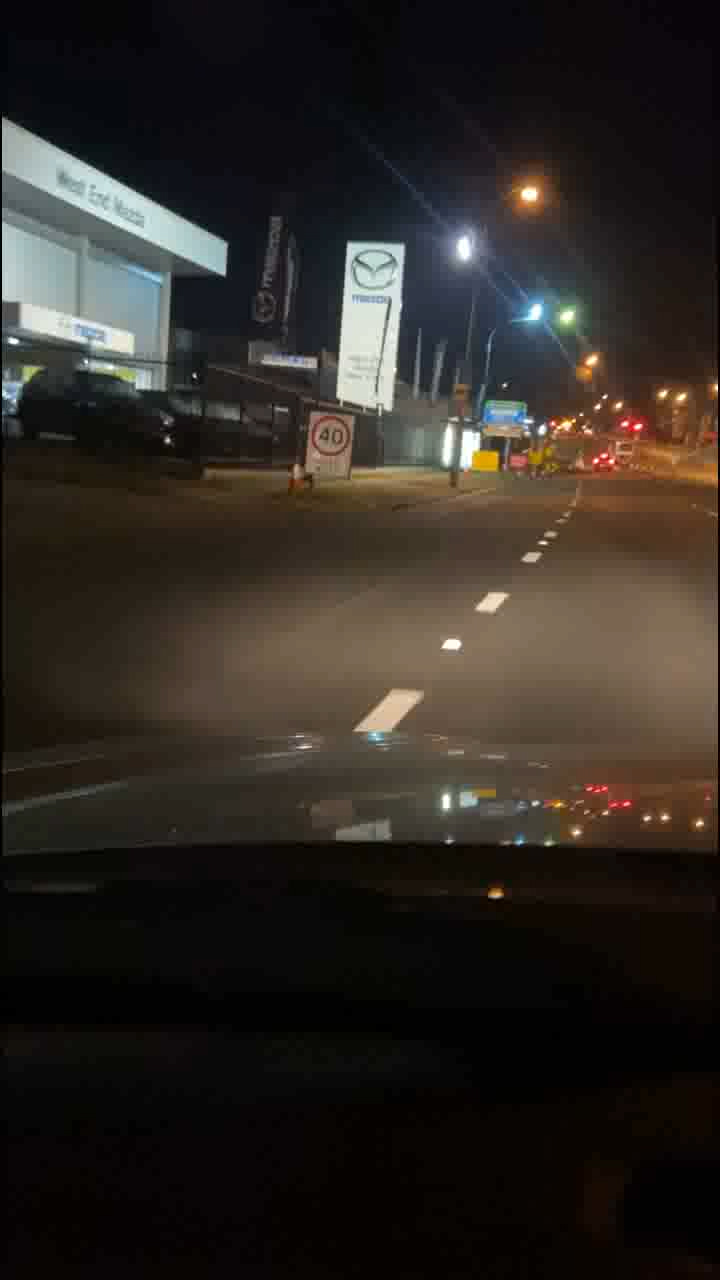car: (24, 361, 177, 465), (591, 454, 616, 477)
road works sign board: (474, 450, 500, 475)
speed board: (306, 413, 352, 488)
